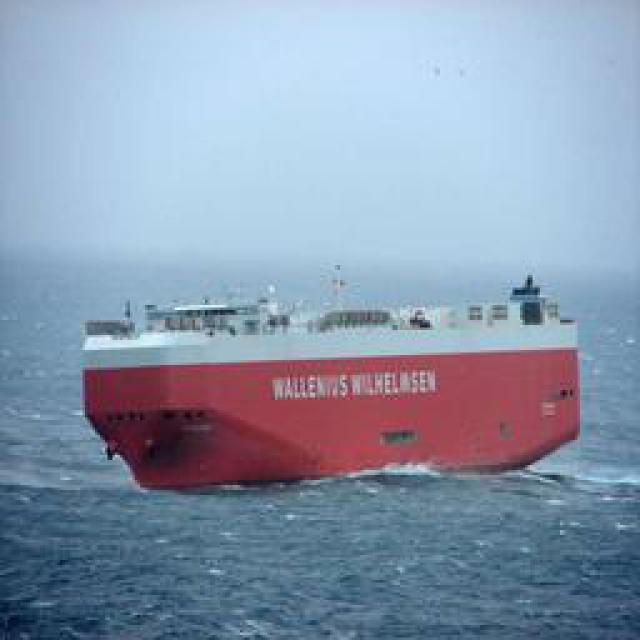Ship: (77, 266, 585, 491)
